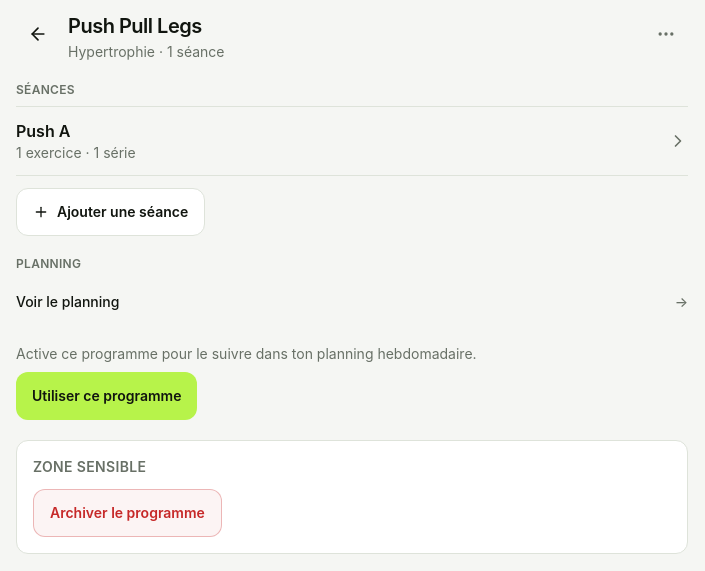
Program builder exercises and sets › renders compact target sets and recommendation line
The width and height of the screenshot is (705, 571).
Click the button "Push A 1 exercice · 1 série" at (43, 131), box [16, 107, 688, 175]
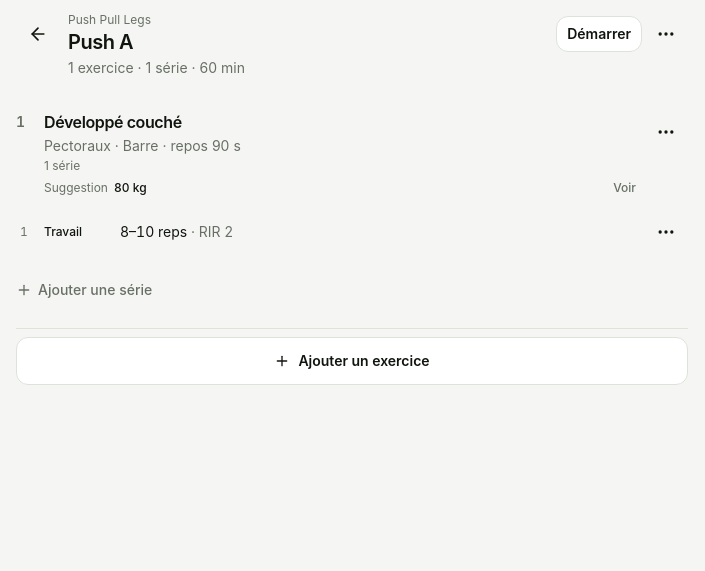
Expected: the text "8–10 reps · RIR 2" is shown, [120, 223, 233, 240]
Expected: the text "· RIR 2" is shown, [187, 223, 233, 240]
Expected: the text "Suggestion80 kg" is shown, [44, 180, 147, 196]
